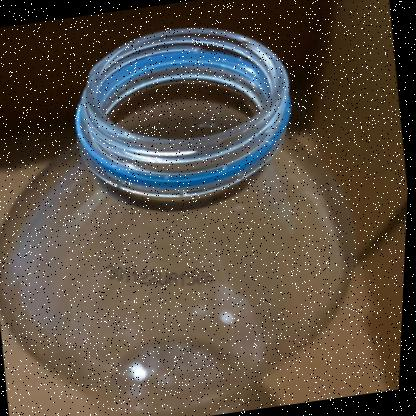open bottle: (1, 1, 408, 409)
